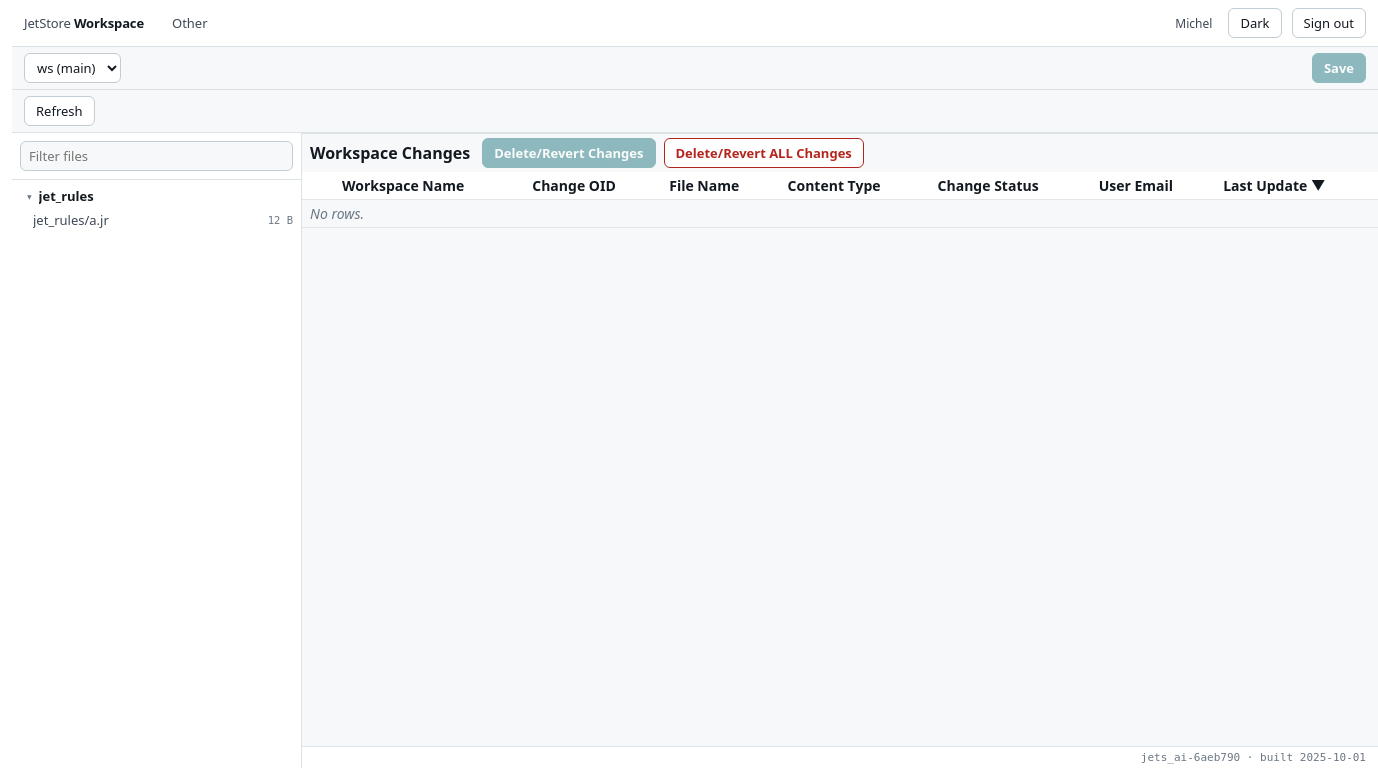
Test case: the Workspace IDE and the build information › gives the line back to the shell's footer on leaving the IDE
The width and height of the screenshot is (1378, 768).
expect the button titled "jet_rules/a.jr" is shown: met, box [12,208,301,232]
Step 1. Click the link "Other" → point(190, 23), box [172,14,208,32]
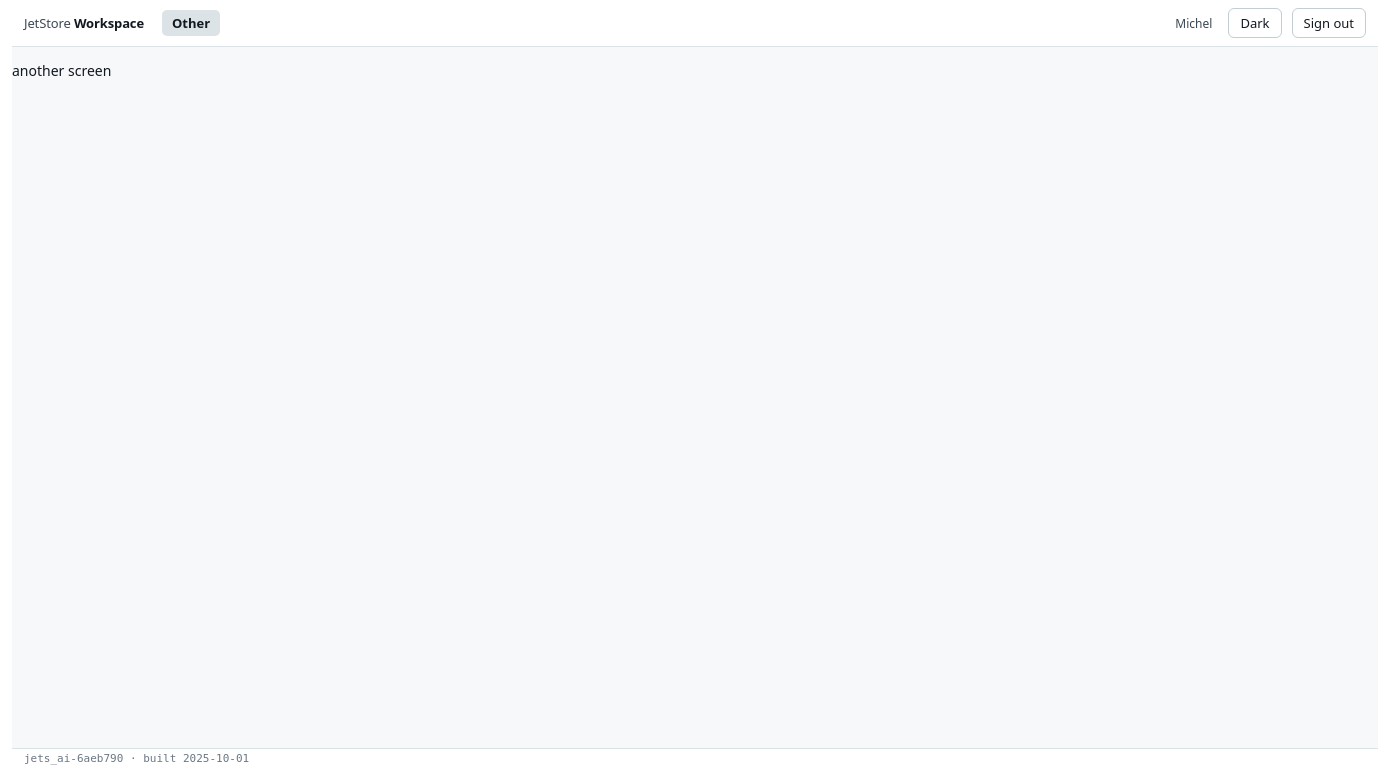
expect the footer named "Build information" reads "jets_ai-6aeb790 · built 2025-10-01": met, box [24,752,249,765]
expect the text "another screen" is shown: met, box [12,61,111,80]
